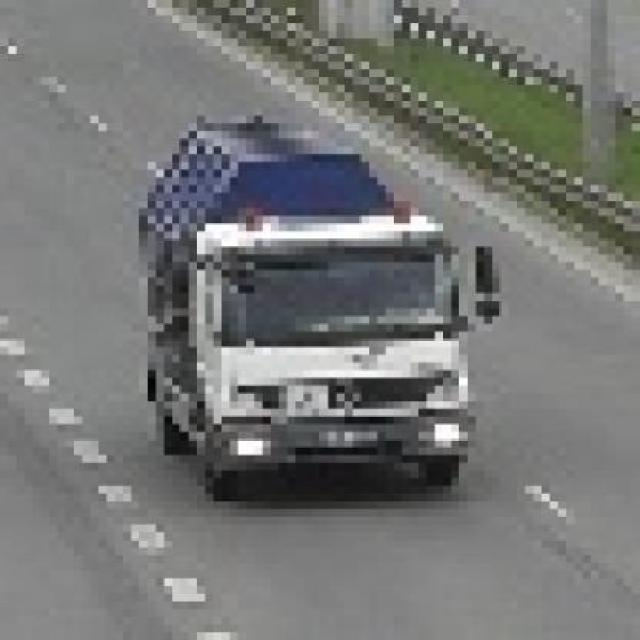truck: (157, 117, 511, 488)
